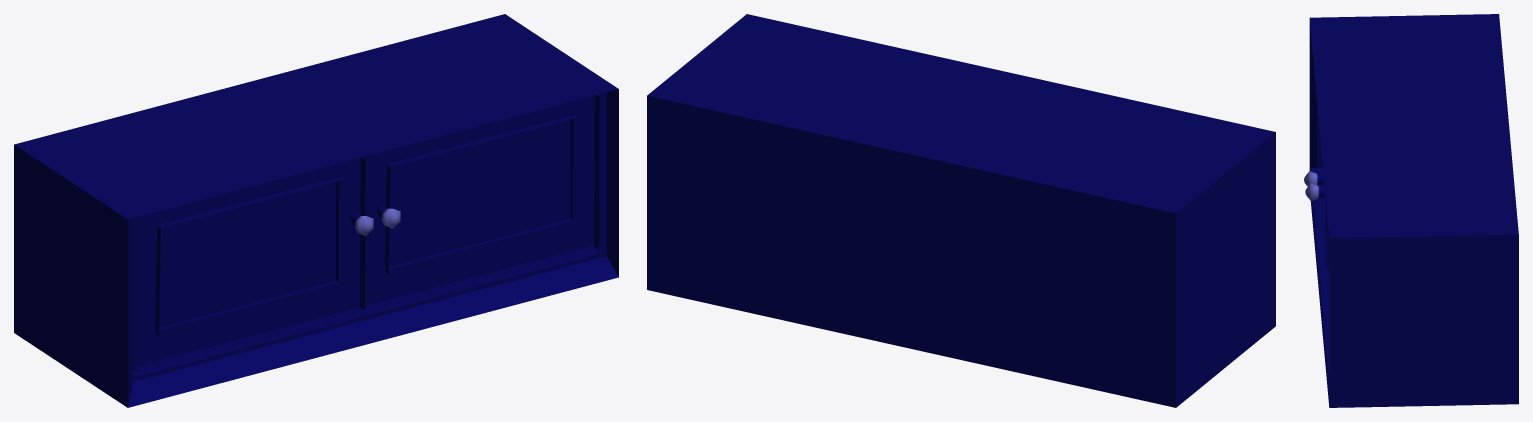
Rendered from TV-stand.fb.fbx.
3 renders of one model, left to right at view 1: azimuth 30°, elevation 25°; view 2: azimuth 150°, elevation 25°; view 3: azimuth 270°, elevation 25°, orthographic. The views are drawn at different scales.
Visible parts, largest first — view 1: TV stand; view 2: TV stand; view 3: TV stand.
Part boxes in pixels (left/top/right/bottom): TV stand: left=14, top=14, right=618, bottom=407; TV stand: left=647, top=14, right=1275, bottom=407; TV stand: left=1304, top=14, right=1518, bottom=407.
Bounding box in the file's own units: 872 × 308 × 353.
1 material, 1 textured.
